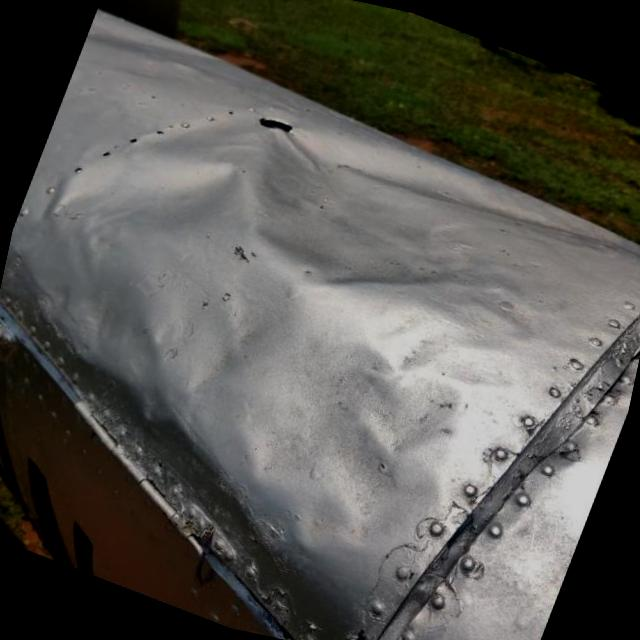dent: (190, 113, 538, 354), (220, 266, 492, 574), (14, 62, 262, 272), (20, 231, 188, 395), (158, 268, 282, 416), (455, 170, 640, 266), (88, 6, 230, 87)
